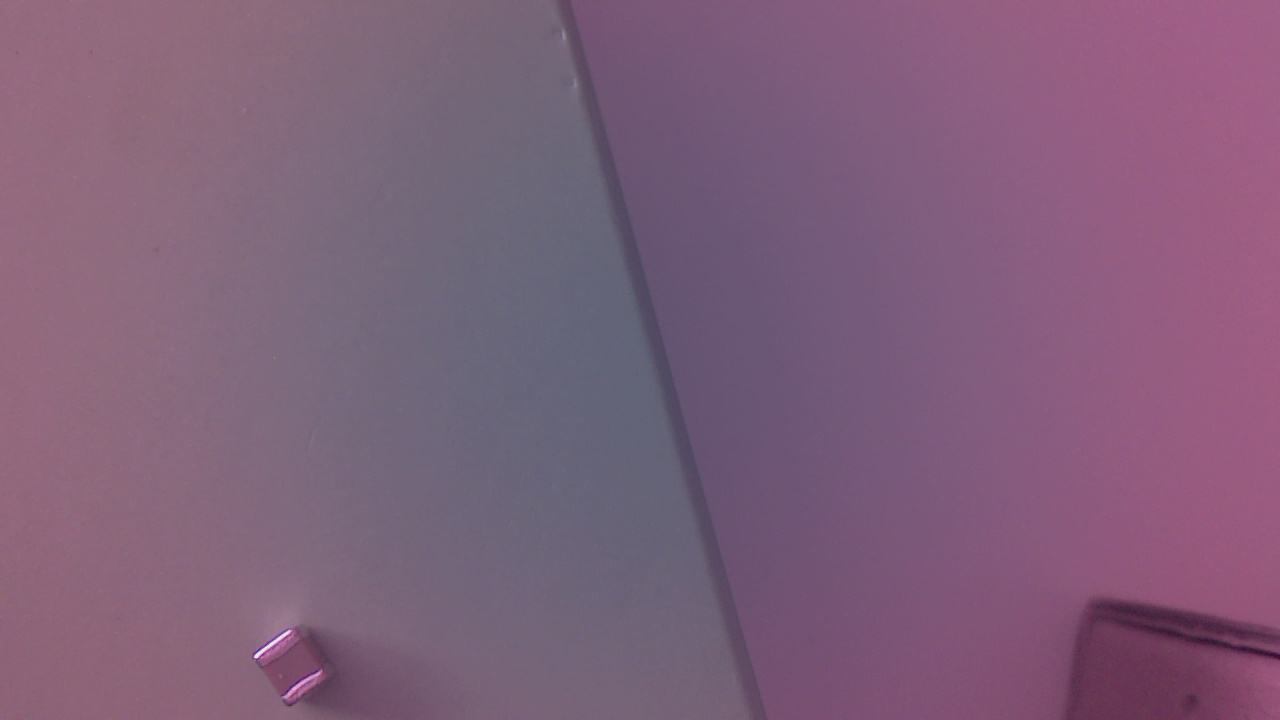Condensator: (255, 632, 339, 710)
